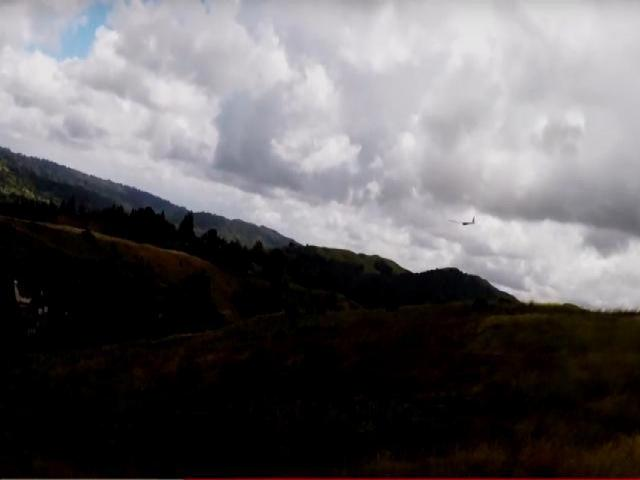iha: (449, 217, 479, 230)
